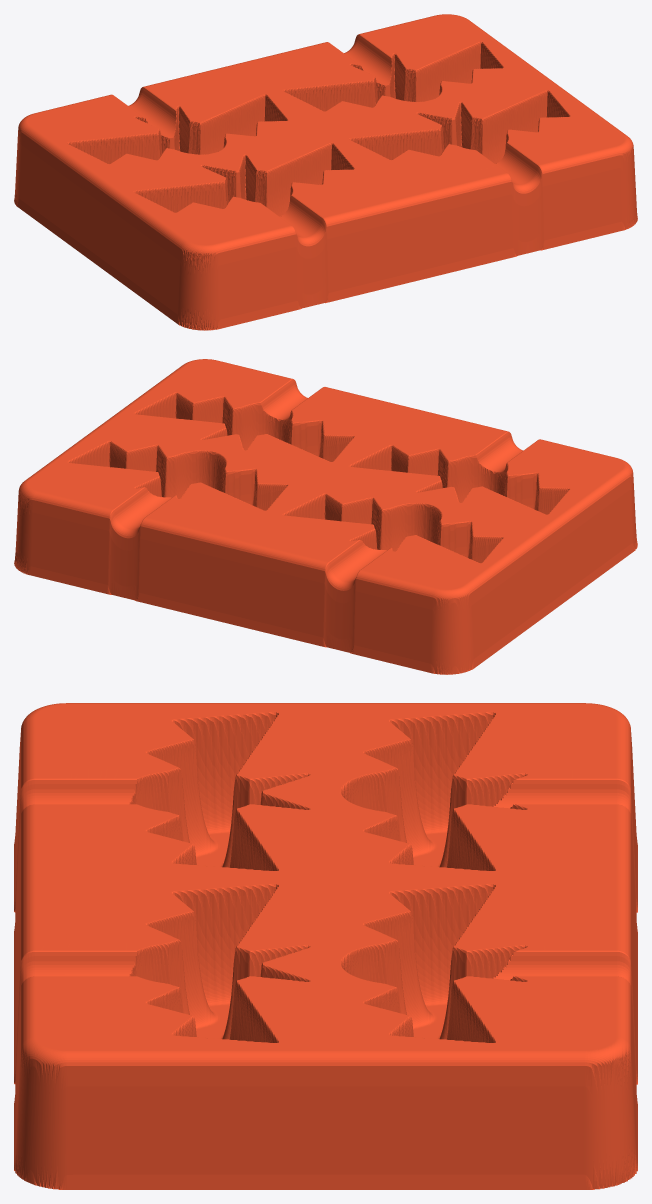
The model's file is mold.glb.
The picture shows the model from 3 angles, top to bottom: view 1: azimuth 30°, elevation 25°; view 2: azimuth 150°, elevation 25°; view 3: azimuth 270°, elevation 25°; orthographic projection. The views are drawn at different scales.
Parts seen in each view (by area): view 1: geometry_0; view 2: geometry_0; view 3: geometry_0.
Part boxes in pixels (x1=…): geometry_0: x1=14, y1=14, x2=637, y2=330; geometry_0: x1=14, y1=359, x2=637, y2=674; geometry_0: x1=14, y1=703, x2=637, y2=1189.
Bounding box in the file's own units: 0.1468 × 0.0245 × 0.1064.
